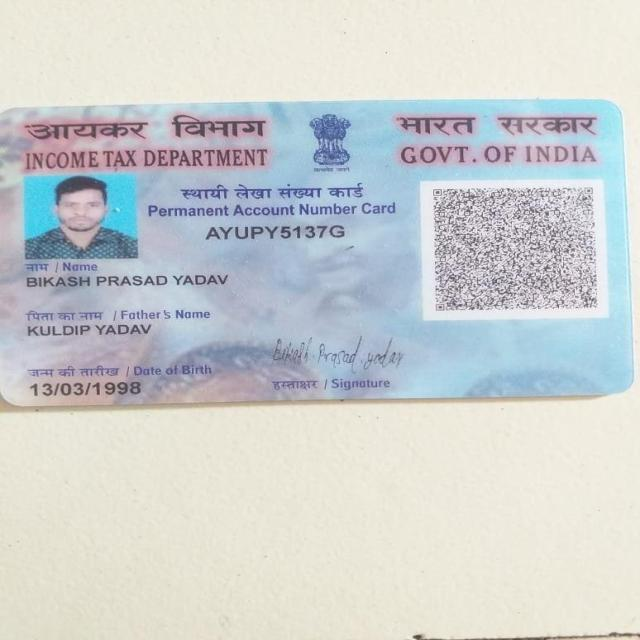pan_card: (1, 105, 627, 408)
